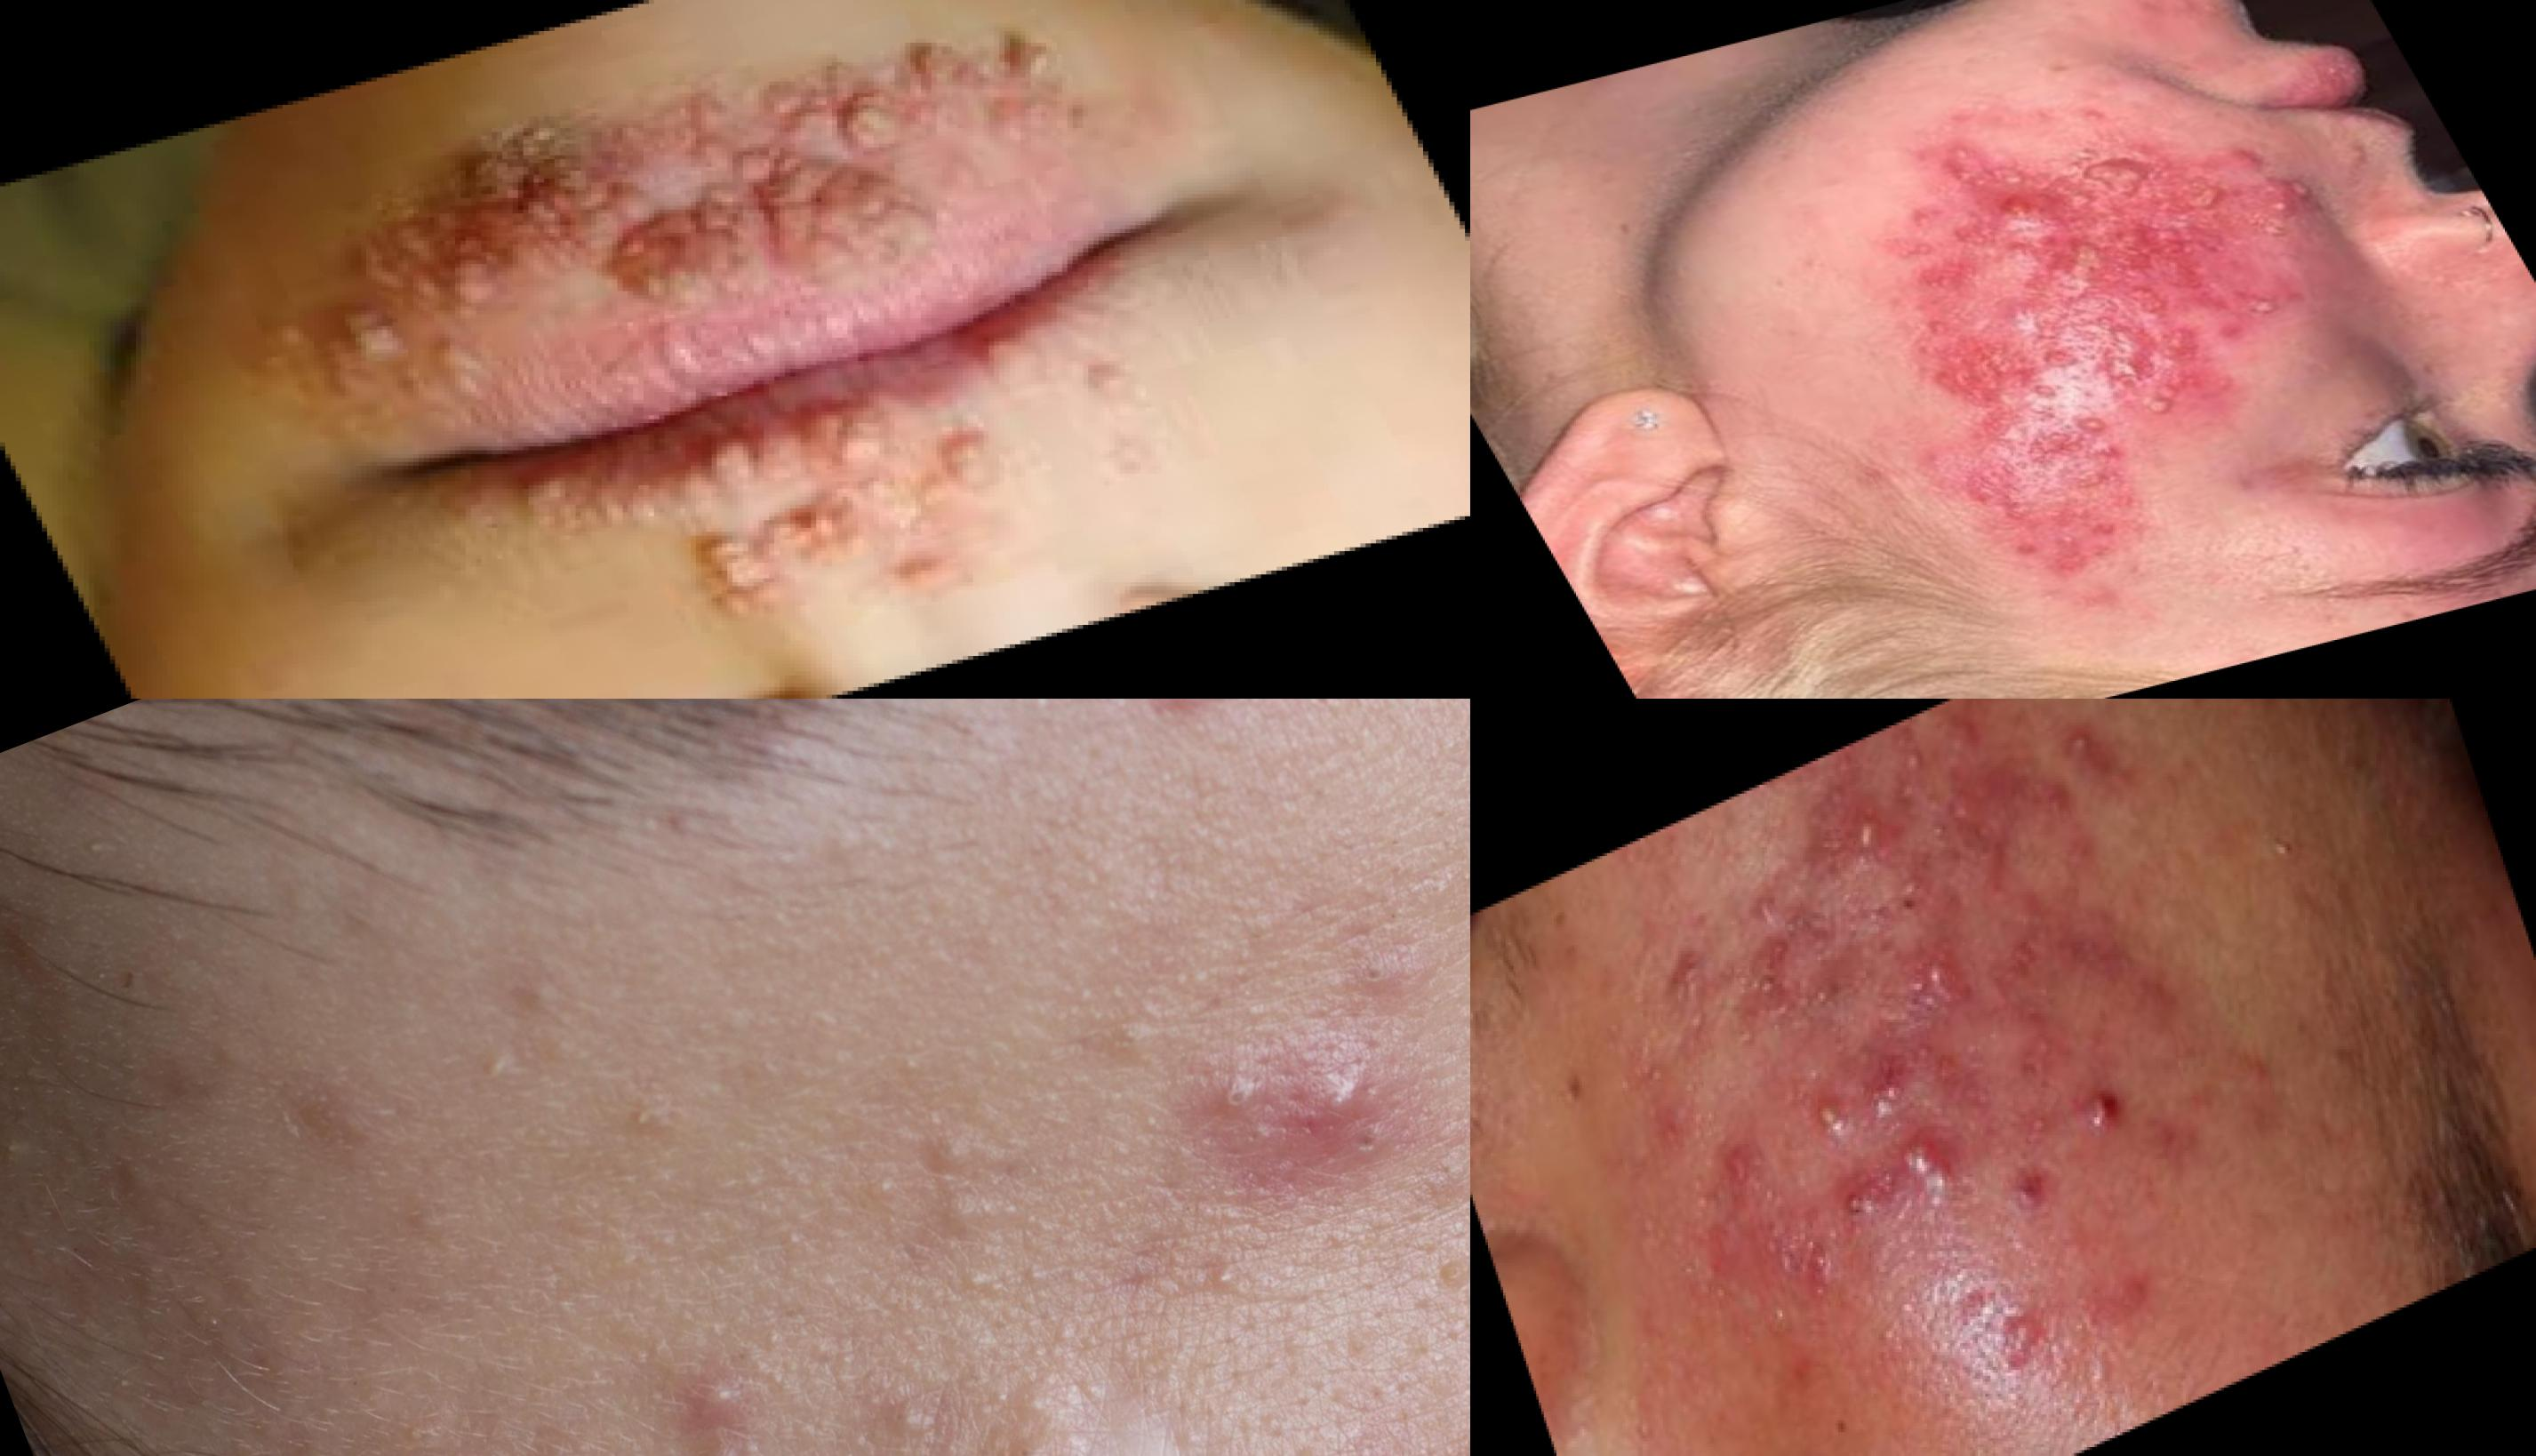blackhead: (862, 1089, 993, 1207), (1298, 925, 1433, 1033), (1193, 1050, 1298, 1146), (1338, 1101, 1421, 1196)
cystic: (1963, 181, 2087, 258), (2024, 230, 2135, 313), (2059, 141, 2175, 218), (1980, 280, 2064, 347), (2088, 322, 2167, 383)
flat_wart: (204, 2, 1157, 451), (575, 326, 1238, 674)
papular: (2209, 127, 2296, 185)
purulent: (1813, 782, 1902, 885), (1893, 923, 1979, 1014), (2067, 1062, 2142, 1151), (1886, 730, 1946, 803), (2222, 286, 2301, 336), (2060, 401, 2128, 453), (2055, 704, 2106, 773), (2240, 188, 2311, 235)
sebo-crystan-conglo: (1959, 1275, 2081, 1397), (1836, 1000, 1930, 1136), (1916, 118, 2047, 202), (1780, 1068, 1869, 1186), (1888, 1122, 1972, 1228), (2121, 374, 2209, 432)
whitehead: (636, 1338, 817, 1456), (1066, 700, 1242, 759)
